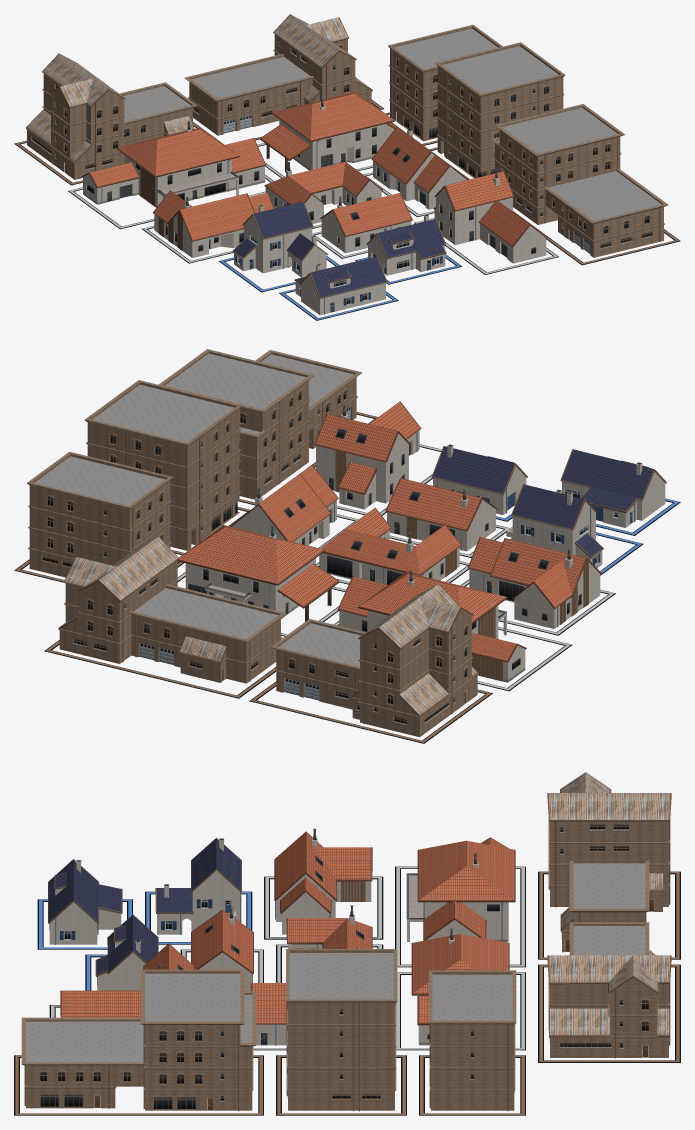
The model's file is A_EXPO.obj.
3 renders of one model, top to bottom at view 1: azimuth 30°, elevation 25°; view 2: azimuth 150°, elevation 25°; view 3: azimuth 270°, elevation 25°, orthographic. The views are drawn at different scales.
Visible parts, largest first — view 1: SU_WALL_03, SU_ROOF_01, SU_COLOR, SU_WALL_01, SU_GROUND_02, SU_ROOF_02, SU_ROOF_05; view 2: SU_WALL_03, SU_ROOF_01, SU_COLOR, SU_GROUND_02, SU_WALL_01, SU_ROOF_02, SU_ROOF_05; view 3: SU_WALL_03, SU_COLOR, SU_GROUND_02, SU_ROOF_01, SU_WALL_01, SU_ROOF_05, SU_ROOF_02.
Part boxes in pixels (x1,y1,x2,y2): SU_WALL_03: (26,24,668,257); SU_ROOF_01: (90,92,529,245); SU_COLOR: (14,14,680,320); SU_WALL_01: (83,105,546,315); SU_GROUND_02: (123,28,661,220); SU_ROOF_02: (233,201,445,297); SU_ROOF_05: (27,14,370,161); SU_WALL_03: (27,349,478,737); SU_ROOF_01: (179,402,585,660); SU_COLOR: (14,388,680,743); SU_GROUND_02: (35,353,512,666); SU_WALL_01: (185,414,665,679); SU_ROOF_02: (433,446,653,556); SU_ROOF_05: (62,537,476,714); SU_WALL_03: (21,821,669,1110); SU_COLOR: (14,772,680,1115); SU_GROUND_02: (26,863,645,1062); SU_ROOF_01: (61,832,514,1023); SU_WALL_01: (49,838,508,1045); SU_ROOF_05: (548,773,670,1034); SU_ROOF_02: (48,838,241,974).
Size of the model in its own units: 99 by 20.5 by 112.
